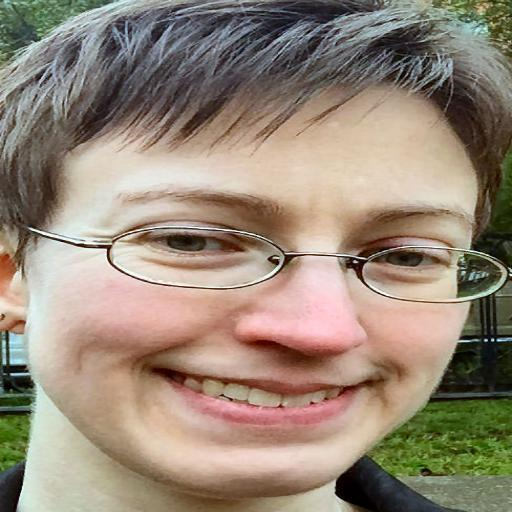Autism: (13, 10, 512, 512)
